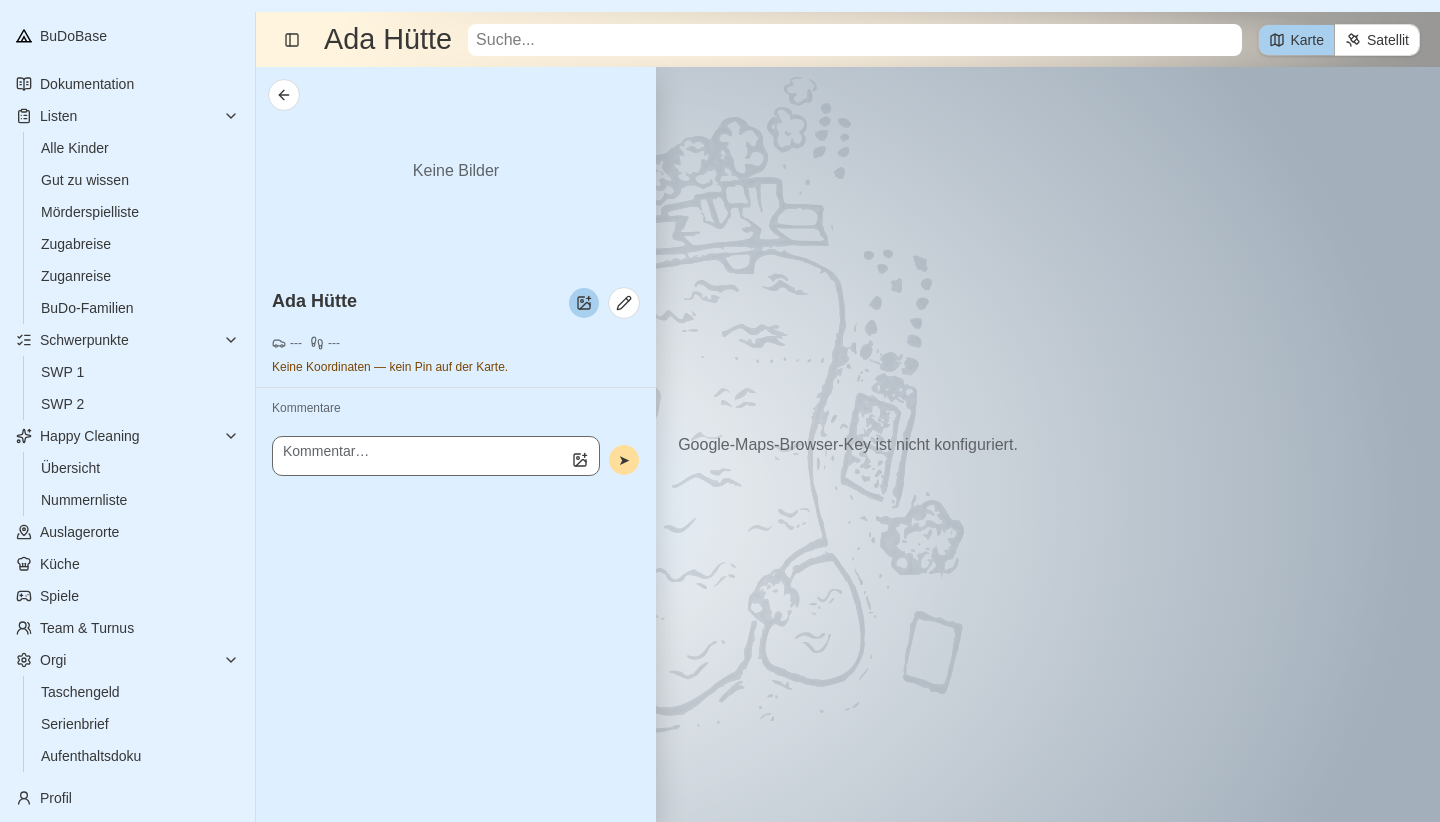
Test: Auslagerorte workflows › updates only the saved place after a sidebar comment without entering route loading
This screenshot has width=1440, height=822.
Type "Wasser abdrehen" into the text box labelled "Kommentar" at (436, 456), box [272,436,600,476]
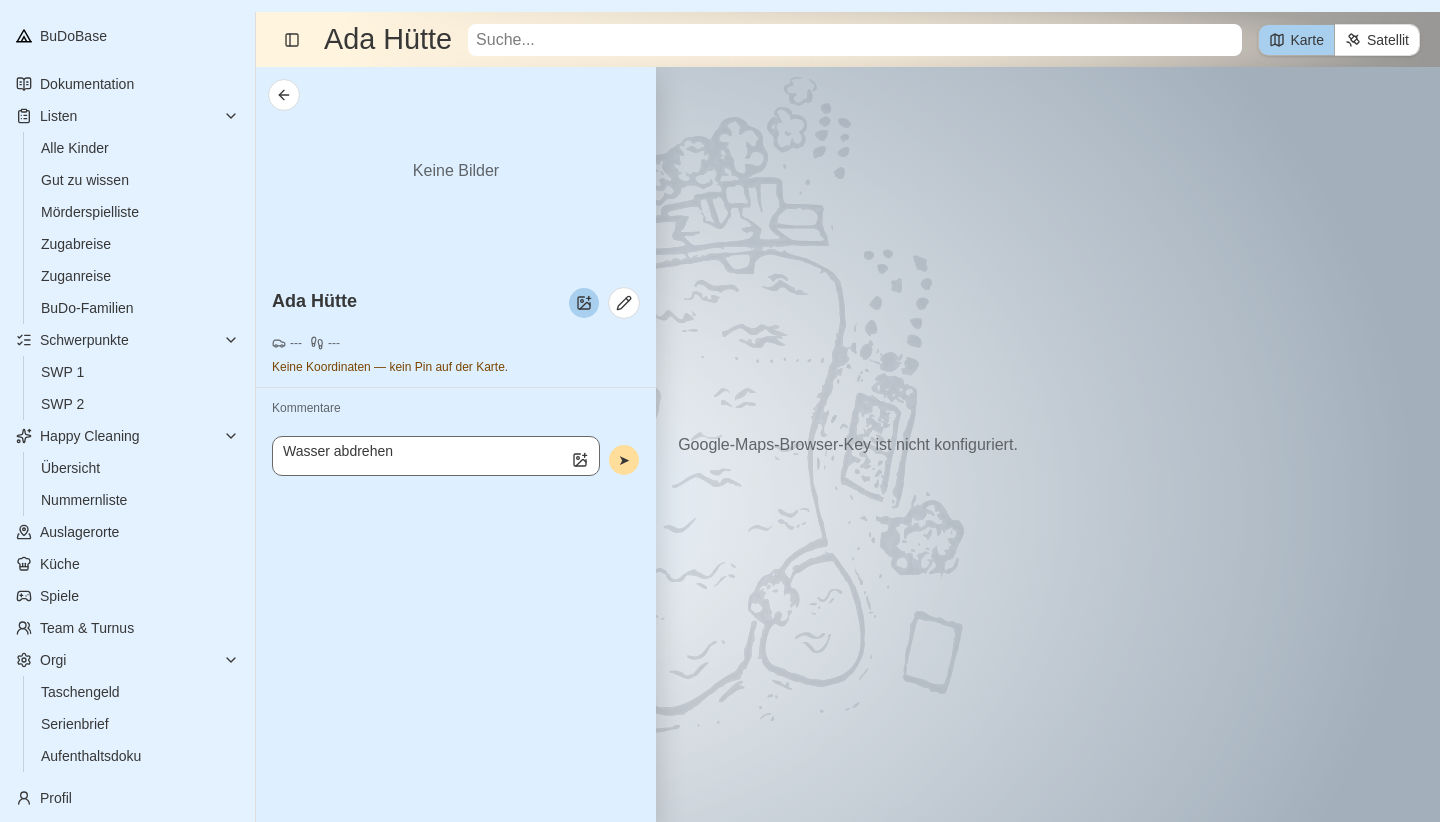
Click the button named "Kommentar senden" at (624, 460), box [608,444,640,476]
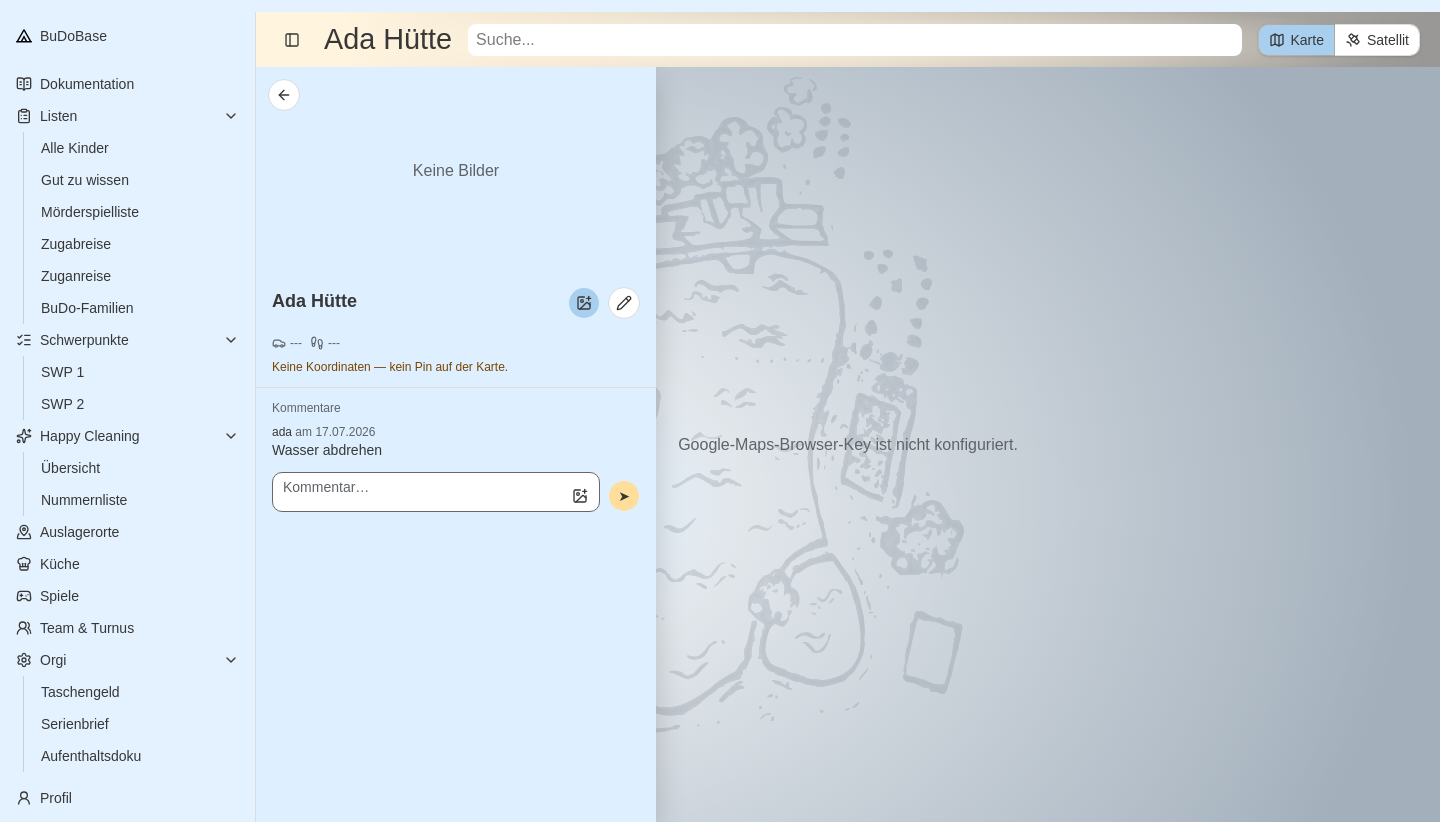
Expected: the text "Wasser abdrehen" is shown, [272,442,382,458]
